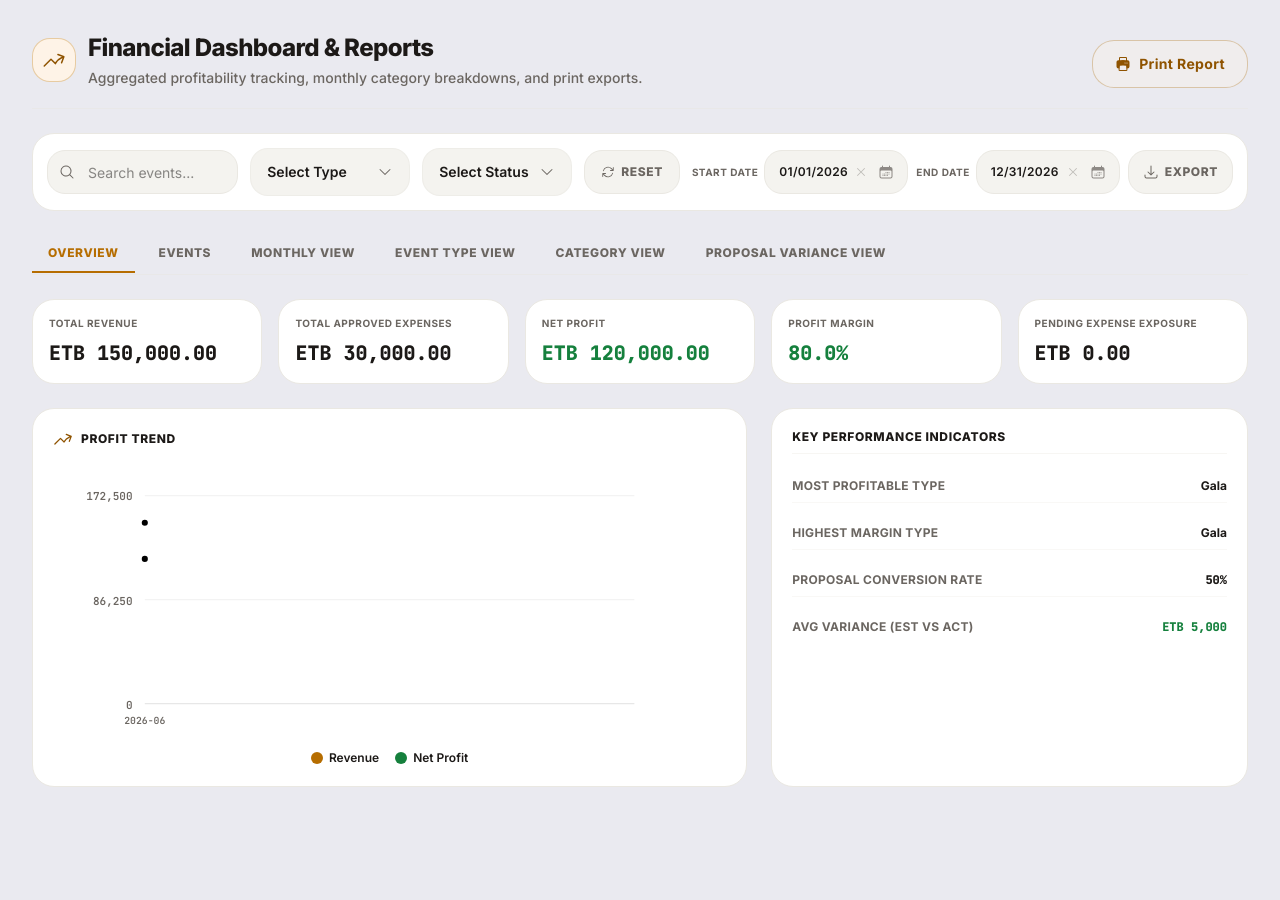
it: Issue #193 - Profit Report Event Venue & Events View Frontend Test Suite › should switch to Events View tab and display event rows with venue and uncategorized fallback
Click Events View tab
What coordinates should you click on to do the following:
click the tab "Events"
I would click on:
 (185, 254)
Its box is [142,235,227,273].
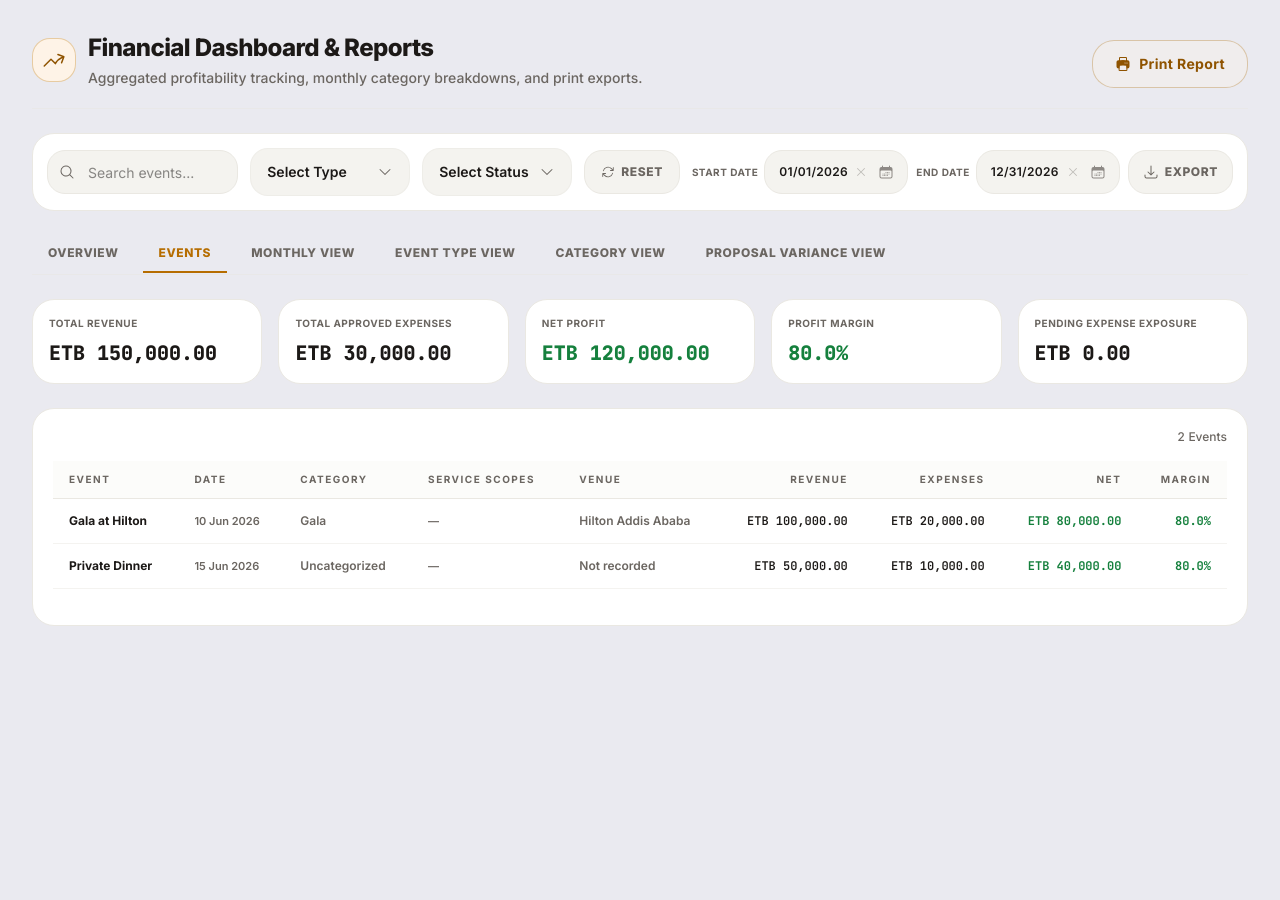
Expected: the text "Gala at Hilton" is shown, [69,513,147,528]
Expected: the text "Hilton Addis Ababa" is shown, [579,513,703,529]
Expected: the text "Not recorded" is shown, [579,558,656,573]
